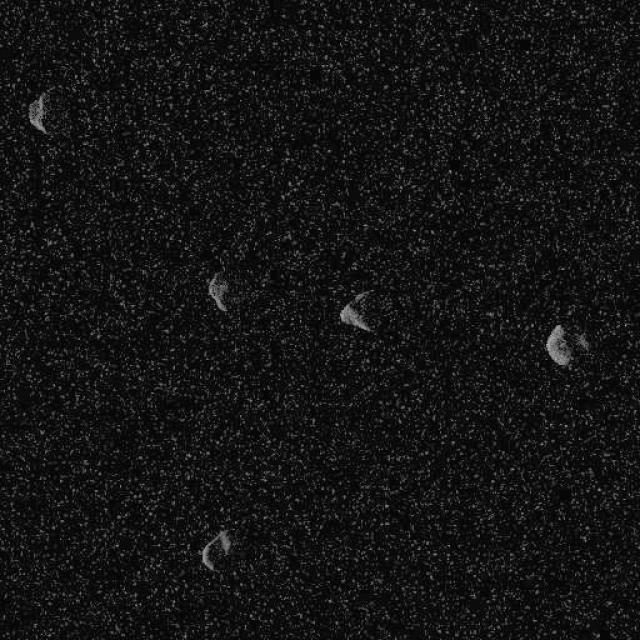D2: (338, 288, 380, 332), (200, 528, 231, 572), (545, 322, 573, 367), (26, 91, 50, 135), (206, 270, 230, 312)
